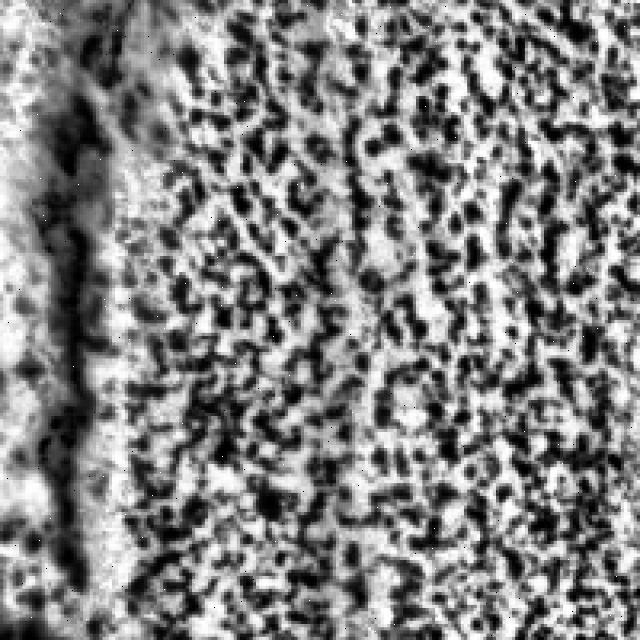Rolled_in_Scale: (135, 0, 640, 630)
Scratches: (19, 64, 147, 595)
